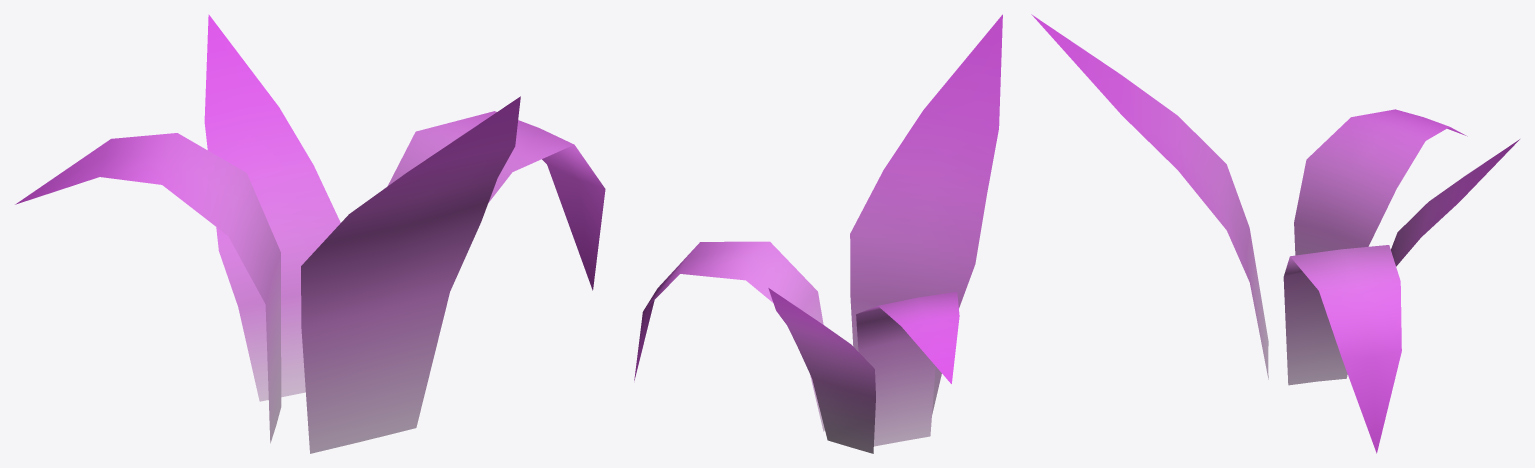
File: SM_GRASS_CANDY_2.fbx
The picture shows the model from 3 angles, left to right: view 1: azimuth 30°, elevation 25°; view 2: azimuth 150°, elevation 25°; view 3: azimuth 270°, elevation 25°; orthographic projection. The views are drawn at different scales.
Parts seen in each view (by area): view 1: GRASS_CANDY_2; view 2: GRASS_CANDY_2; view 3: GRASS_CANDY_2.
Part boxes in pixels (x1=…): GRASS_CANDY_2: x1=15, y1=14, x2=605, y2=453; GRASS_CANDY_2: x1=634, y1=14, x2=1002, y2=453; GRASS_CANDY_2: x1=1031, y1=14, x2=1519, y2=453.
Size of the model in its own units: 77.27 by 65.62 by 84.01.
1 material, 1 textured.
